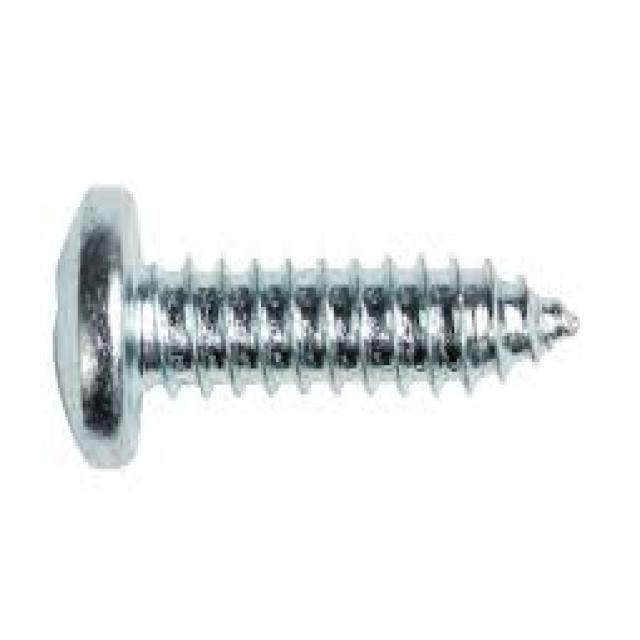Screw: (53, 187, 577, 469)
